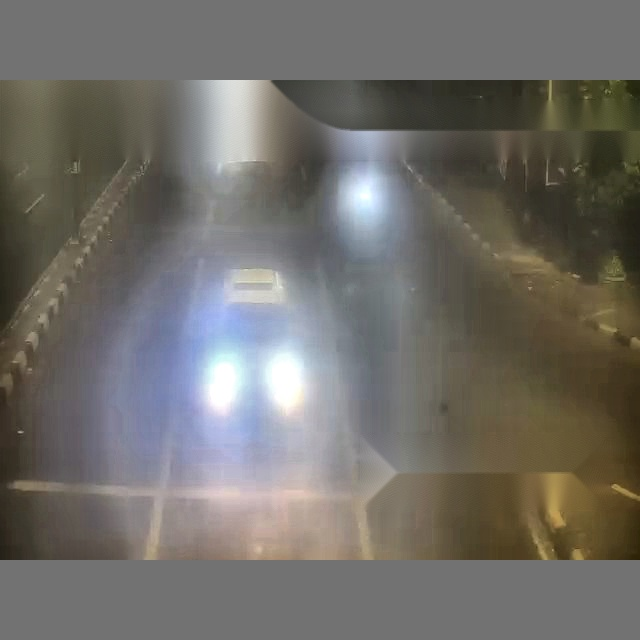Motor: (271, 352, 304, 416)
